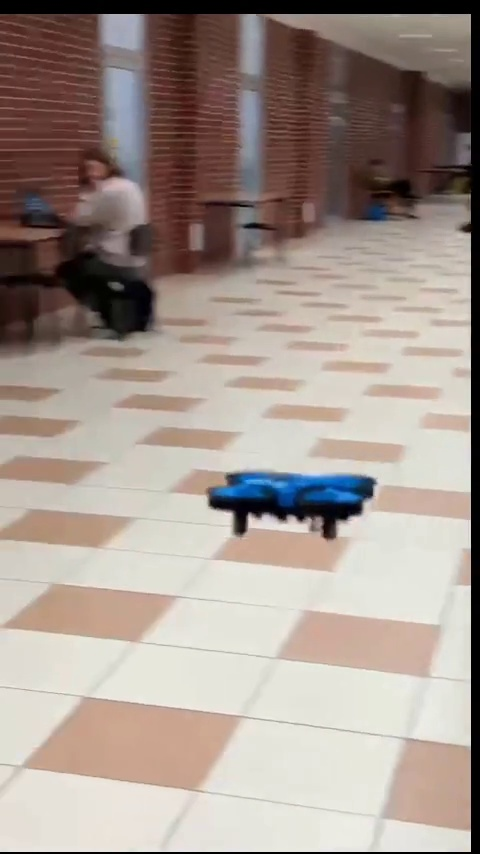drone: (210, 464, 374, 544)
no vest: (71, 153, 148, 334)
